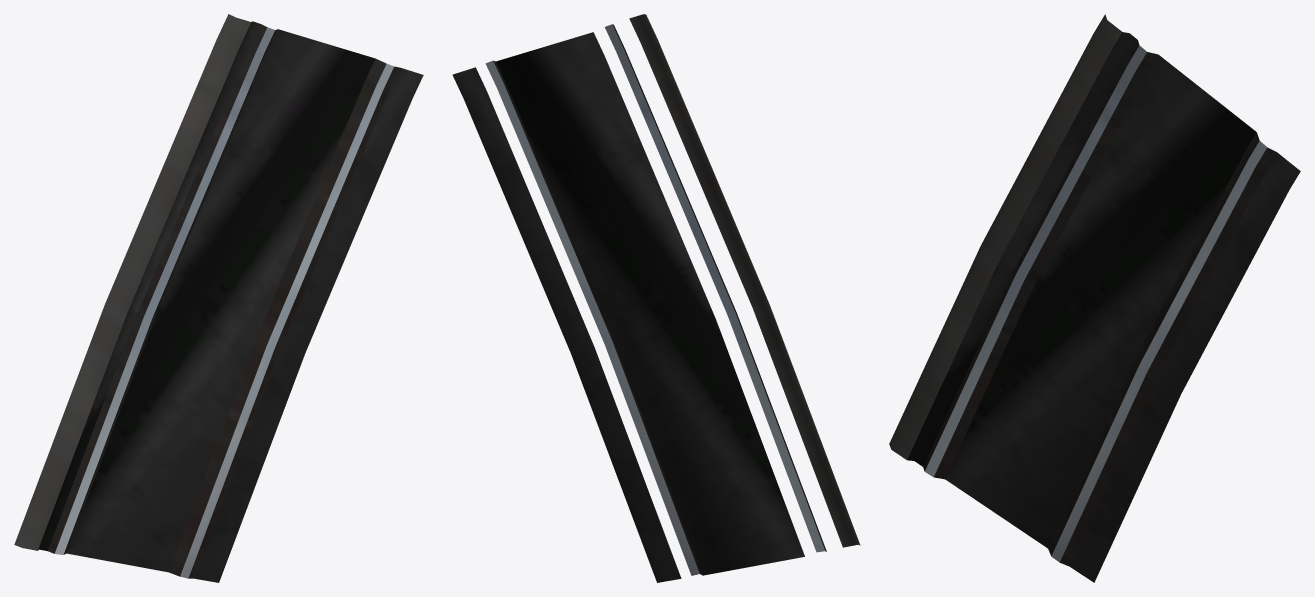
Rendered from p6_express_train_track_a02_LOD2.obj.
The picture shows the model from 3 angles, left to right: view 1: azimuth 30°, elevation 25°; view 2: azimuth 150°, elevation 25°; view 3: azimuth 330°, elevation 25°; orthographic projection.
Parts seen in each view (by area): view 1: metal_aircraft_catapult_strip, railroadtrack_side, dub_concrete_wall_01_trim_clean, railroadtrack_top; view 2: metal_aircraft_catapult_strip, dub_concrete_wall_01_trim_clean, railroadtrack_top, railroadtrack_side; view 3: metal_aircraft_catapult_strip, railroadtrack_side, dub_concrete_wall_01_trim_clean, railroadtrack_top.
Part boxes in pixels (bbox=[...]): metal_aircraft_catapult_strip: bbox=[38, 21, 423, 582]; railroadtrack_side: bbox=[48, 24, 399, 578]; dub_concrete_wall_01_trim_clean: bbox=[14, 14, 251, 550]; railroadtrack_top: bbox=[54, 27, 394, 578]; metal_aircraft_catapult_strip: bbox=[452, 32, 804, 582]; dub_concrete_wall_01_trim_clean: bbox=[629, 14, 860, 547]; railroadtrack_top: bbox=[485, 24, 824, 575]; railroadtrack_side: bbox=[493, 24, 826, 575]; metal_aircraft_catapult_strip: bbox=[907, 32, 1300, 582]; railroadtrack_side: bbox=[923, 40, 1276, 566]; dub_concrete_wall_01_trim_clean: bbox=[889, 14, 1122, 459]; railroadtrack_top: bbox=[925, 45, 1267, 562].
Size of the model in its own units: 813 by 1076 by 15.36.
